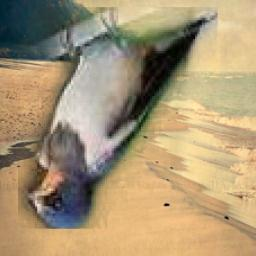Swallow: (19, 8, 219, 230)
